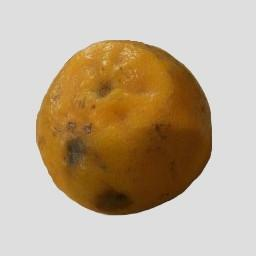Unripe: (39, 41, 213, 214)
